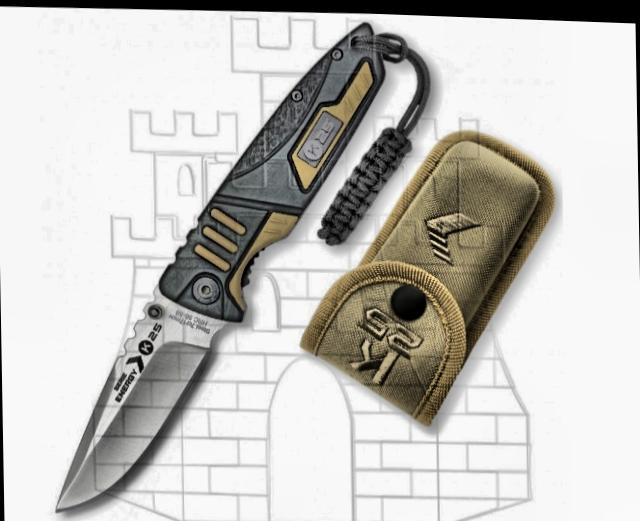knife: (45, 247, 262, 521)
